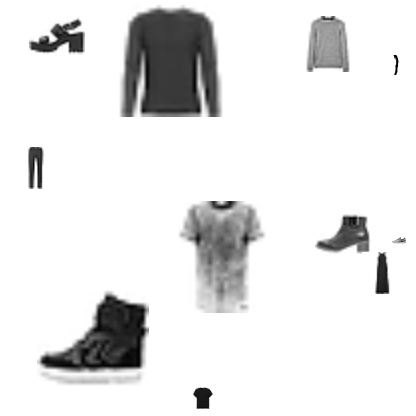1: (382, 50, 410, 78)
Ankle_boot: (315, 205, 371, 261)
Dress: (362, 252, 404, 294)
Pullover: (113, 5, 225, 117), (299, 16, 355, 72)
Sandal: (29, 8, 85, 64)
Shirt: (192, 387, 214, 409)
Sneaker: (37, 280, 149, 392), (392, 233, 406, 247)
T-shirt/top: (164, 201, 276, 313)
Trouser: (15, 147, 57, 189)
